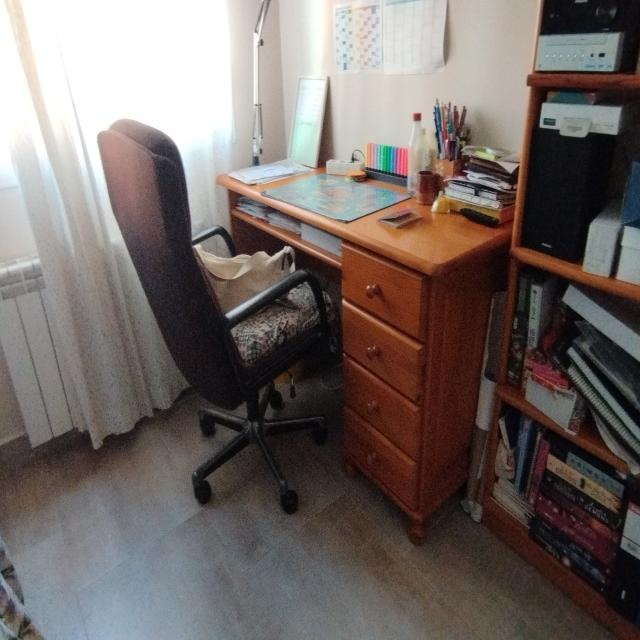bed: (0, 542, 41, 640)
bookshelf: (495, 384, 615, 468), (513, 247, 640, 304), (528, 73, 640, 108)
cabinet: (216, 162, 491, 522)
chair: (97, 119, 327, 516)
